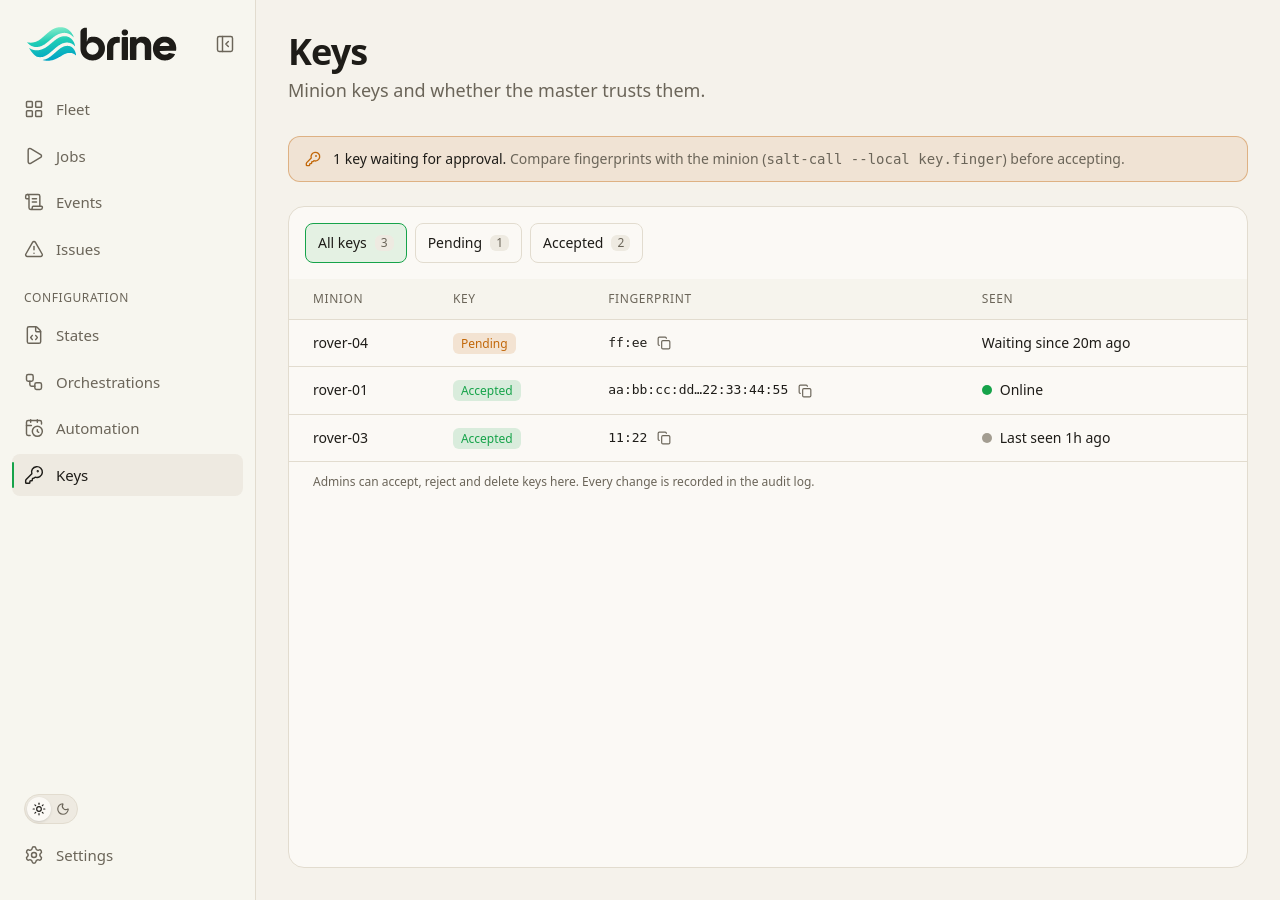
Test: KeysPage › filters by state
This screenshot has width=1280, height=900.
Click the tab "Accepted 2".
click(587, 243)  # box [530,223,643,263]
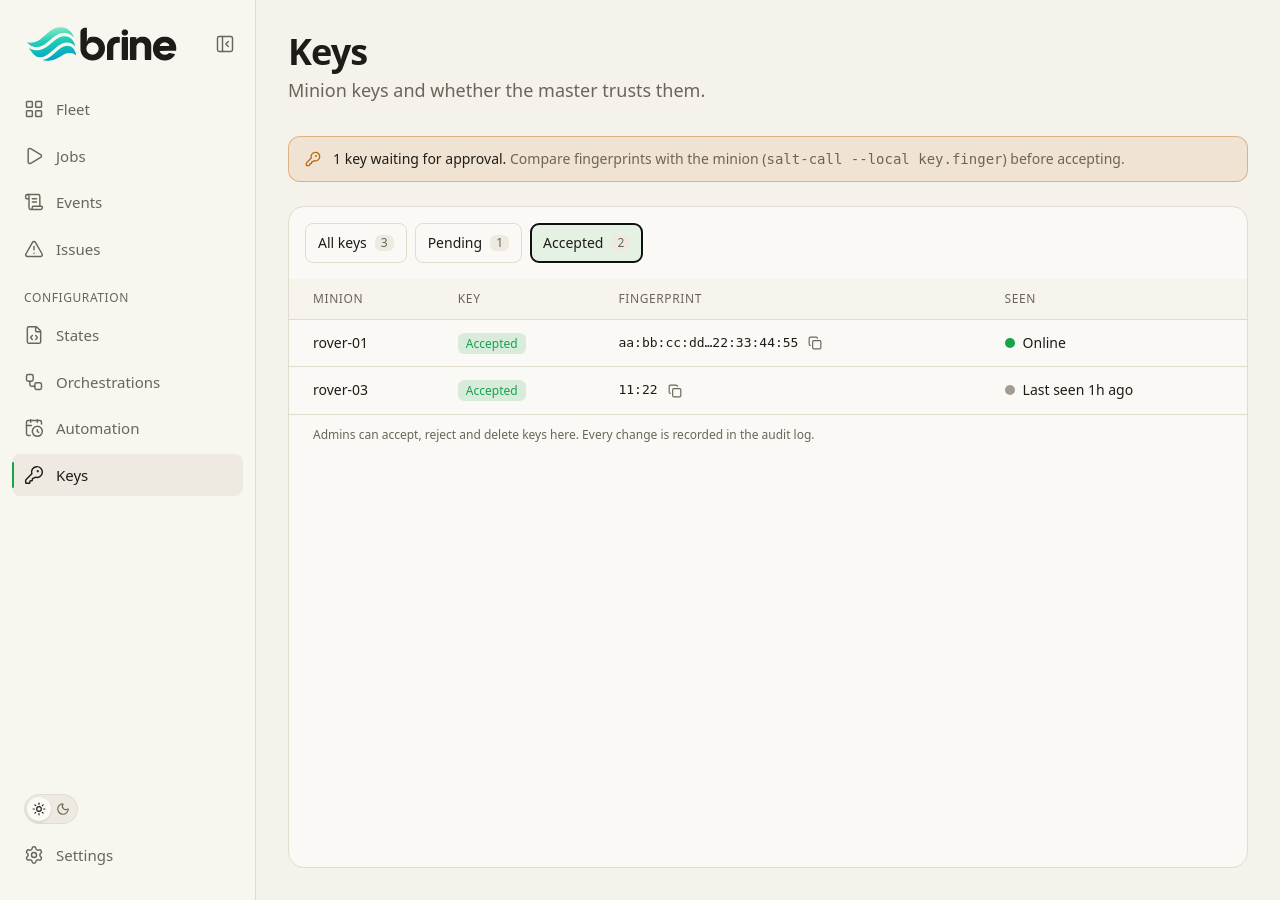
Expected: the text "Last seen 1h ago" is shown, [1023,380,1133,400]
Now the text "rover-04" is gone
